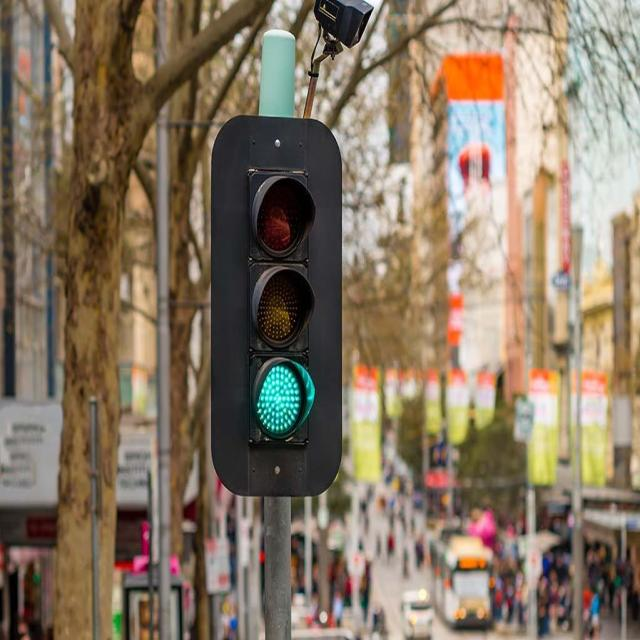green: (250, 164, 310, 459)
